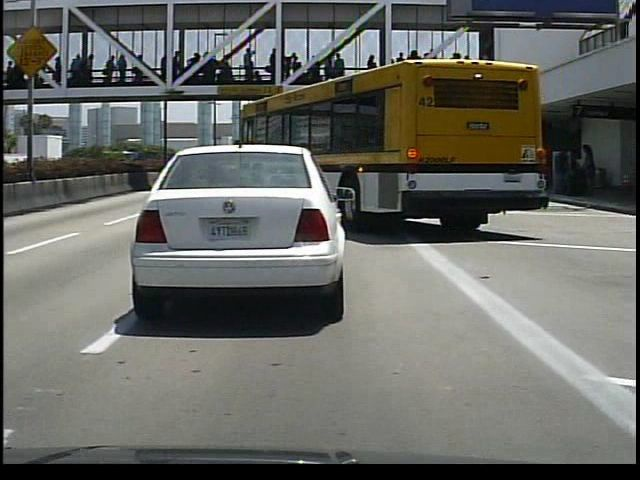person: (576, 142, 604, 202), (554, 139, 579, 200)
